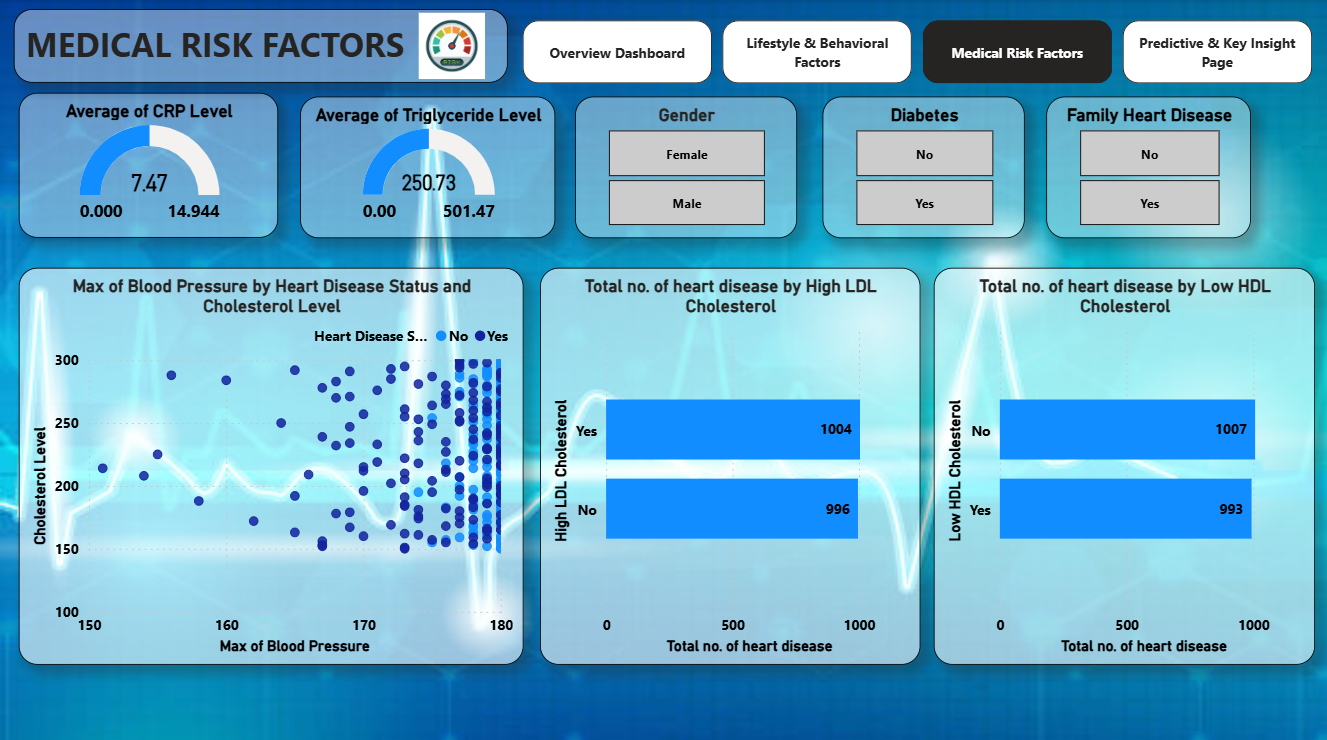

Layout of this report page (visuals, bound fields, positions):
{"tool":"powerbi","page":{"name":"Medical Risk Factors","canvas":[1280,720],"ordinal":3},"visuals":[{"type":"scatterChart","fields":{"X":["Max(heart_disease.Blood Pressure)"],"Y":["heart_disease.Cholesterol Level"],"Series":["heart_disease.Heart Disease Status"]},"box":[17.5,259.3,487.2,383.2],"z":0},{"type":"clusteredBarChart","fields":{"Category":["heart_disease.High LDL Cholesterol"],"Y":["heart_disease.Total no. of heart disease"]},"box":[521,259.3,367,383.2],"z":1000},{"type":"clusteredBarChart","fields":{"Y":["heart_disease.Total no. of heart disease"],"Category":["heart_disease.Low HDL Cholesterol"]},"box":[901.8,259.3,368.2,383.2],"z":2000},{"type":"gauge","fields":{"Y":["Avg(heart_disease.CRP Level)"]},"box":[17.5,90.2,250.5,140.3],"z":3000},{"type":"gauge","fields":{"Y":["Avg(heart_disease.Triglyceride Level)"]},"box":[289.3,93.9,246.7,136.5],"z":4000},{"type":"slicer","title":"Diabetes","fields":{"Values":["heart_disease.Diabetes"]},"box":[794.1,93.9,195.4,136.5],"z":5000},{"type":"slicer","title":"Gender","fields":{"Values":["heart_disease.Gender"]},"box":[554.8,93.9,214.2,136.5],"z":6000},{"type":"slicer","title":"Family Heart Disease","fields":{"Values":["heart_disease.Family Heart Disease"]},"box":[1009.5,93.9,197.9,136.5],"z":7000},{"type":"pageNavigator","box":[504.7,20,765.2,61.4],"z":8000},{"type":"textbox","box":[13.3,9.7,476.5,71.2],"z":9000},{"type":"image","box":[399.5,8.8,73.9,73.9],"z":10000}]}

Visuals, with their boxes in screenshot pixels (x1, y1, x2, y2), scaled from the page's 1280x720 canvas onto the 1327x740 screenshot:
scatterChart - Max(heart_disease.Blood Pressure) x heart_disease.Cholesterol Level: crop(18, 267, 523, 660)
clusteredBarChart - heart_disease.High LDL Cholesterol x heart_disease.Total no. of heart disease: crop(540, 267, 921, 660)
clusteredBarChart - heart_disease.Total no. of heart disease x heart_disease.Low HDL Cholesterol: crop(935, 267, 1317, 660)
gauge - Avg(heart_disease.CRP Level): crop(18, 93, 278, 237)
gauge - Avg(heart_disease.Triglyceride Level): crop(300, 97, 556, 237)
"Diabetes" slicer: crop(823, 97, 1026, 237)
"Gender" slicer: crop(575, 97, 797, 237)
"Family Heart Disease" slicer: crop(1047, 97, 1252, 237)
pageNavigator: crop(523, 21, 1317, 84)
textbox: crop(14, 10, 508, 83)
image: crop(414, 9, 491, 85)
